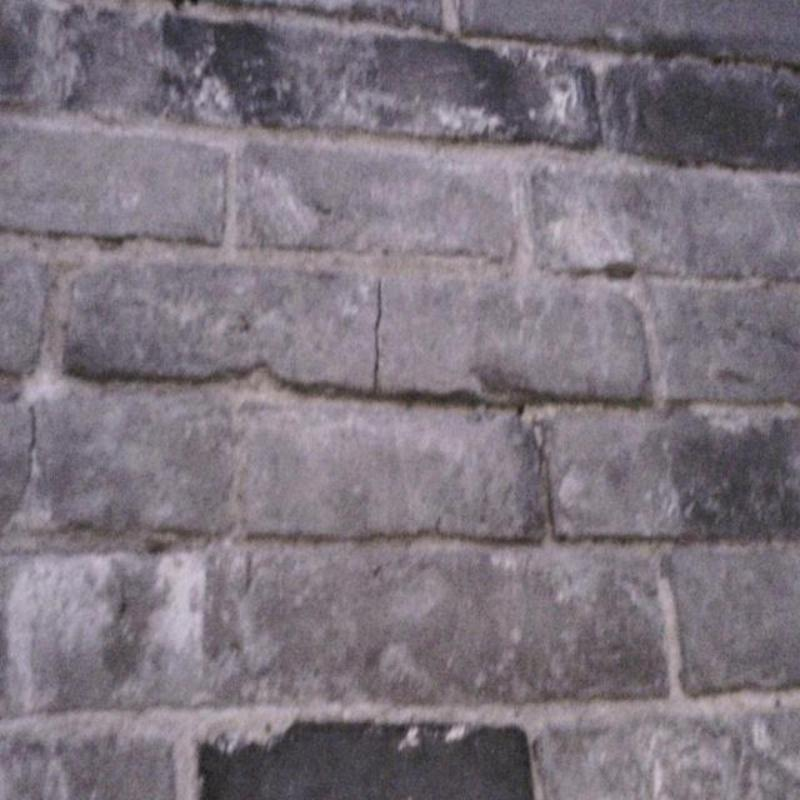crack: (14, 406, 36, 509), (373, 282, 382, 387)
